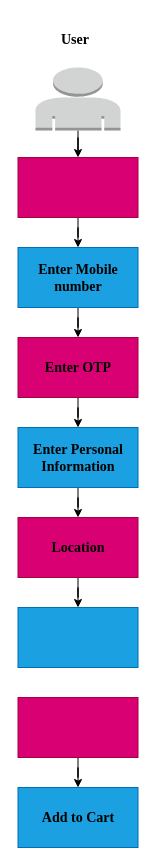
Some shapes in this 155 by 865 pixel diagram are drawn without their labels. The shapes that lost their labels are listed below. From the top down, each one's centre as x and y in pixels, then its label:
At point 77,187: "Sign In/Sign up".
At point 77,637: "Select Gender".
At point 77,727: "Select products".
